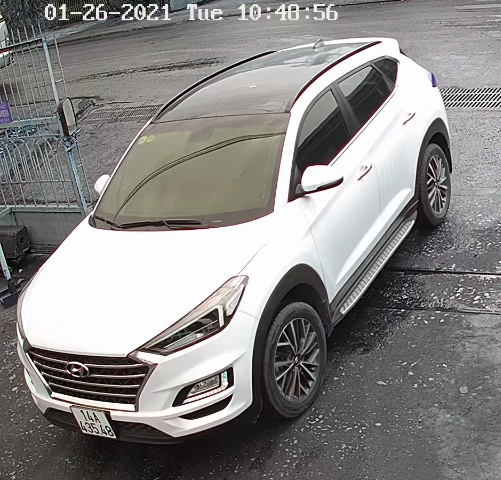vehicle plate: (66, 399, 121, 441)
